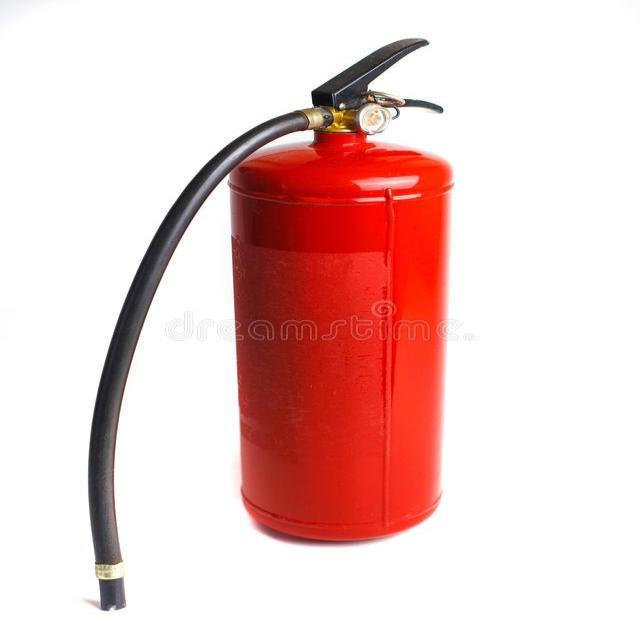fire_extinguisher: (79, 35, 459, 616)
